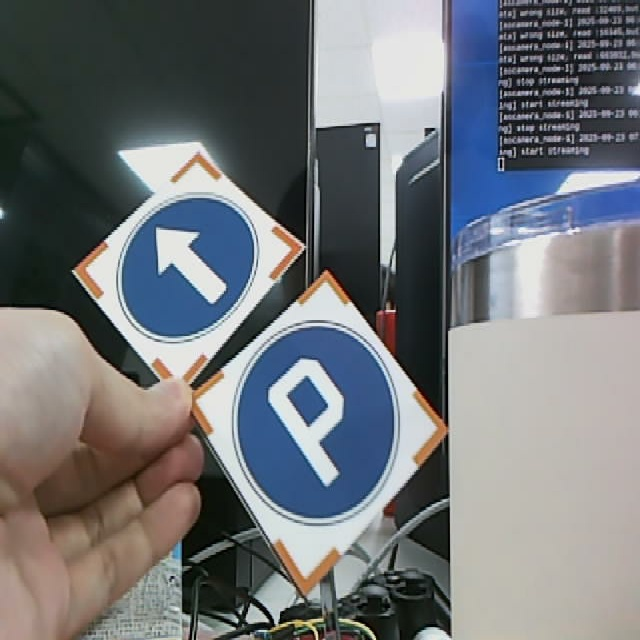parking: (187, 271, 449, 588)
strait: (71, 143, 307, 384)
